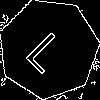L: (24, 24, 75, 76)
